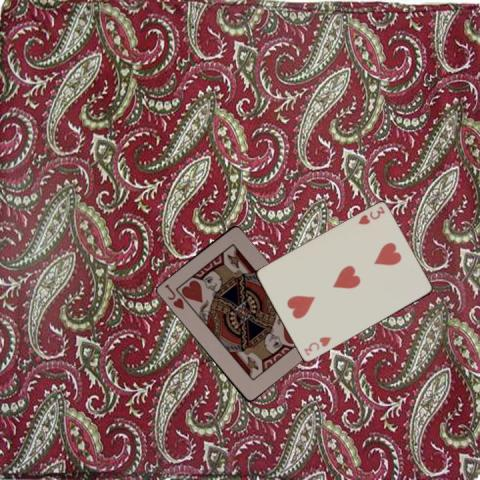3h: (300, 334, 332, 357), (355, 203, 386, 226)
Jh: (161, 280, 185, 310)
